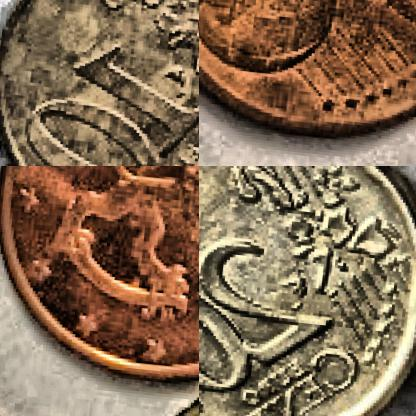coin: (199, 166, 415, 415), (0, 166, 198, 395), (199, 0, 415, 156), (0, 0, 198, 165)
